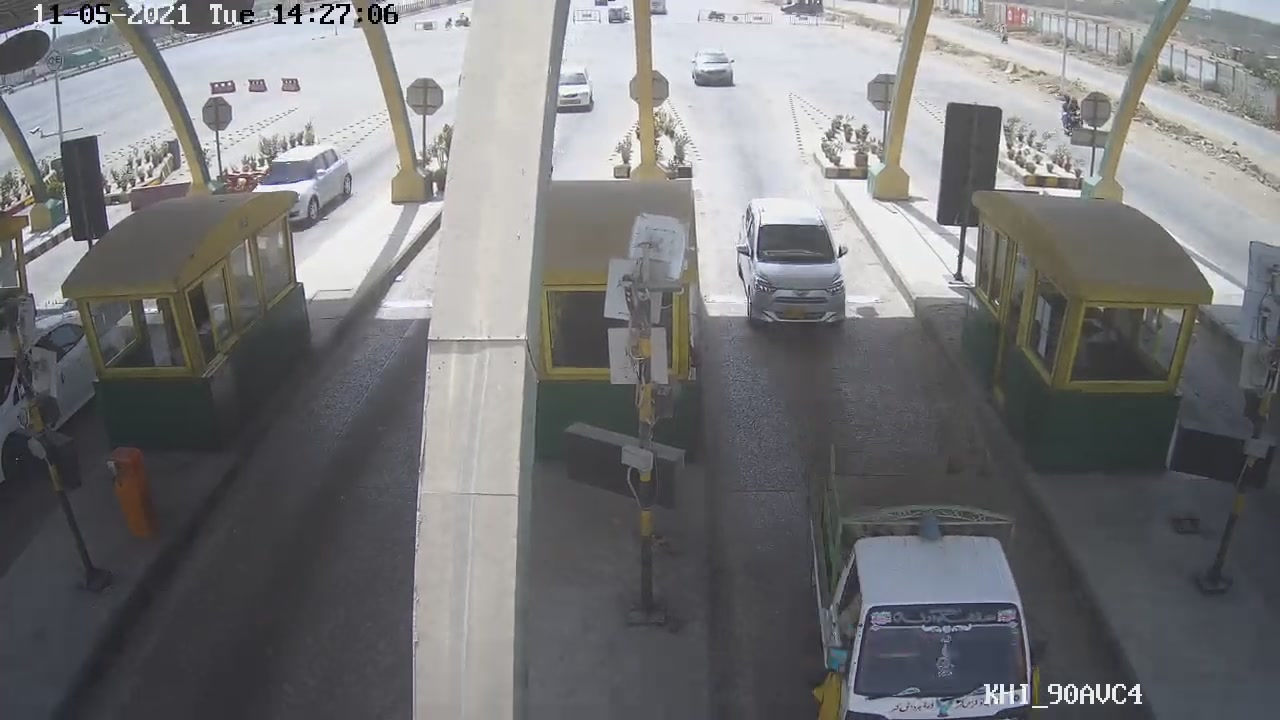F1: (733, 197, 861, 335)
